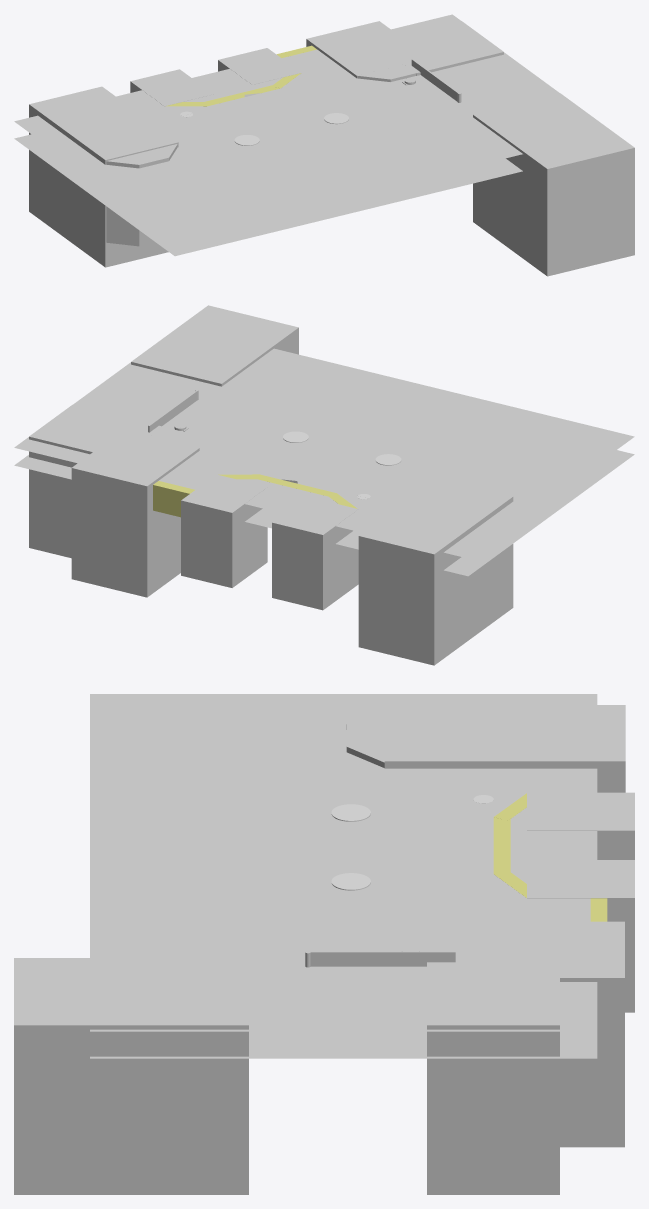
Rendered from Gullmarsplan.fbx.
The picture shows the model from 3 angles, top to bottom: view 1: azimuth 30°, elevation 25°; view 2: azimuth 150°, elevation 25°; view 3: azimuth 270°, elevation 25°; orthographic projection. The views are drawn at different scales.
Visible parts, largest first — view 1: Plane.001, Cube.016, Cube.009, Plane, Cube.008, Cube.002, Cube.010, Cylinder.003, Cylinder.002, Cube.013, Cube; view 2: Plane.001, Cube.009, Cube.002, Cube.008, Cube.016, Cube.010, Plane, Cube.017, Cylinder.003, Cube.013; view 3: Plane.001, Cube.016, Cube.010, Cube.008, Cube.009, Cube.002, Plane, Cube.013, Cylinder.003, Cube, Cylinder.002, Cube.001.
Part boxes in pixels (x1,y1,x2,y2): Plane.001: (14, 14, 559, 238); Cube.016: (473, 93, 634, 276); Cube.009: (29, 86, 178, 267); Plane: (14, 134, 522, 256); Cube.008: (306, 21, 429, 78); Cube.002: (130, 48, 301, 106); Cube.010: (378, 21, 503, 75); Cylinder.003: (106, 144, 177, 246); Cylinder.002: (357, 64, 416, 81); Cube.013: (411, 59, 458, 101); Cube: (205, 85, 280, 106); Plane.001: (14, 348, 634, 558); Cube.009: (358, 478, 513, 665); Cube.002: (181, 474, 358, 610); Cube.008: (71, 429, 199, 597); Cube.016: (131, 305, 298, 386); Cube.010: (29, 404, 162, 558); Plane: (14, 450, 634, 576); Cube.017: (153, 481, 194, 517); Cylinder.003: (443, 475, 511, 495); Cube.013: (148, 391, 197, 432); Plane.001: (90, 694, 597, 1031); Cube.016: (14, 958, 248, 1194); Cube.010: (427, 958, 559, 1194); Cube.008: (465, 921, 624, 1147); Cube.009: (384, 705, 625, 792); Cube.002: (527, 792, 634, 1012); Plane: (90, 1031, 597, 1058); Cube.013: (310, 951, 455, 966); Cylinder.003: (346, 707, 384, 767); Cube: (493, 817, 510, 873); Cylinder.002: (427, 922, 465, 957); Cube.001: (494, 793, 526, 897).
Bounding box in the file's own units: 9443 × 2341 × 7345.
8 materials, 3 textured.
